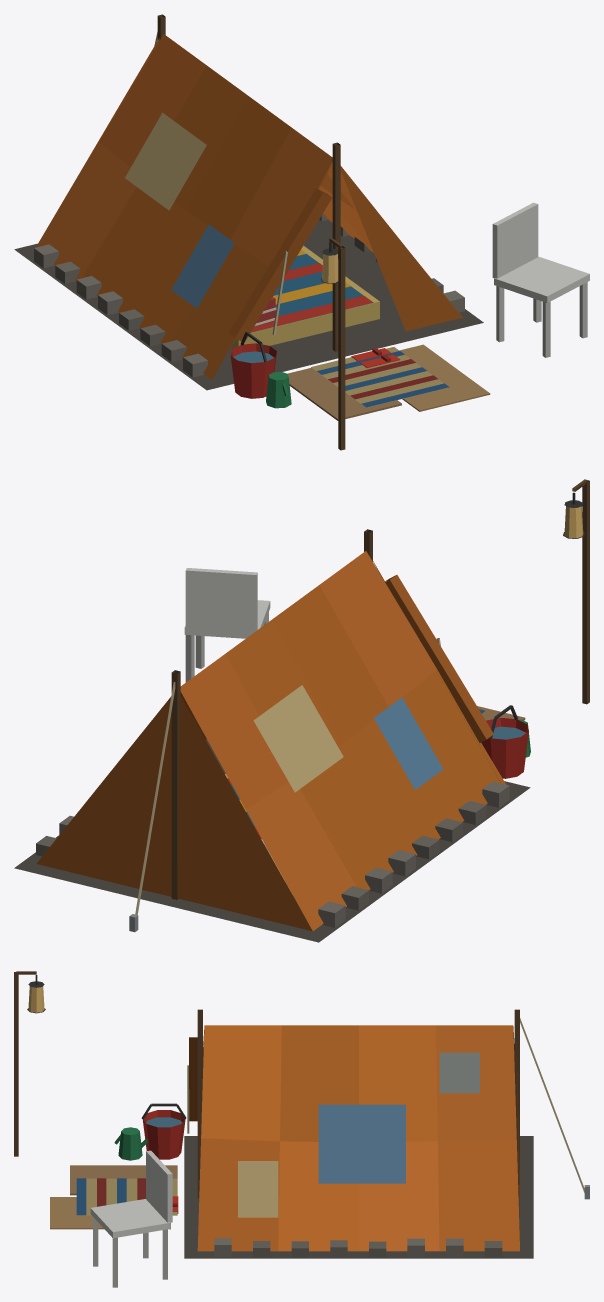
The model's file is ns_mytent.glb.
3 renders of one model, top to bottom at view 1: azimuth 30°, elevation 25°; view 2: azimuth 150°, elevation 25°; view 3: azimuth 270°, elevation 25°, orthographic. The views are drawn at different scales.
Visible parts, largest first — view 1: ns_mytent; view 2: ns_mytent; view 3: ns_mytent.
Part boxes in pixels (<box>): ns_mytent: <box>14,14,589,450</box>; ns_mytent: <box>14,479,589,942</box>; ns_mytent: <box>14,971,589,1287</box>.
Size of the model in its own units: 2.68 by 1.54 by 4.29.
